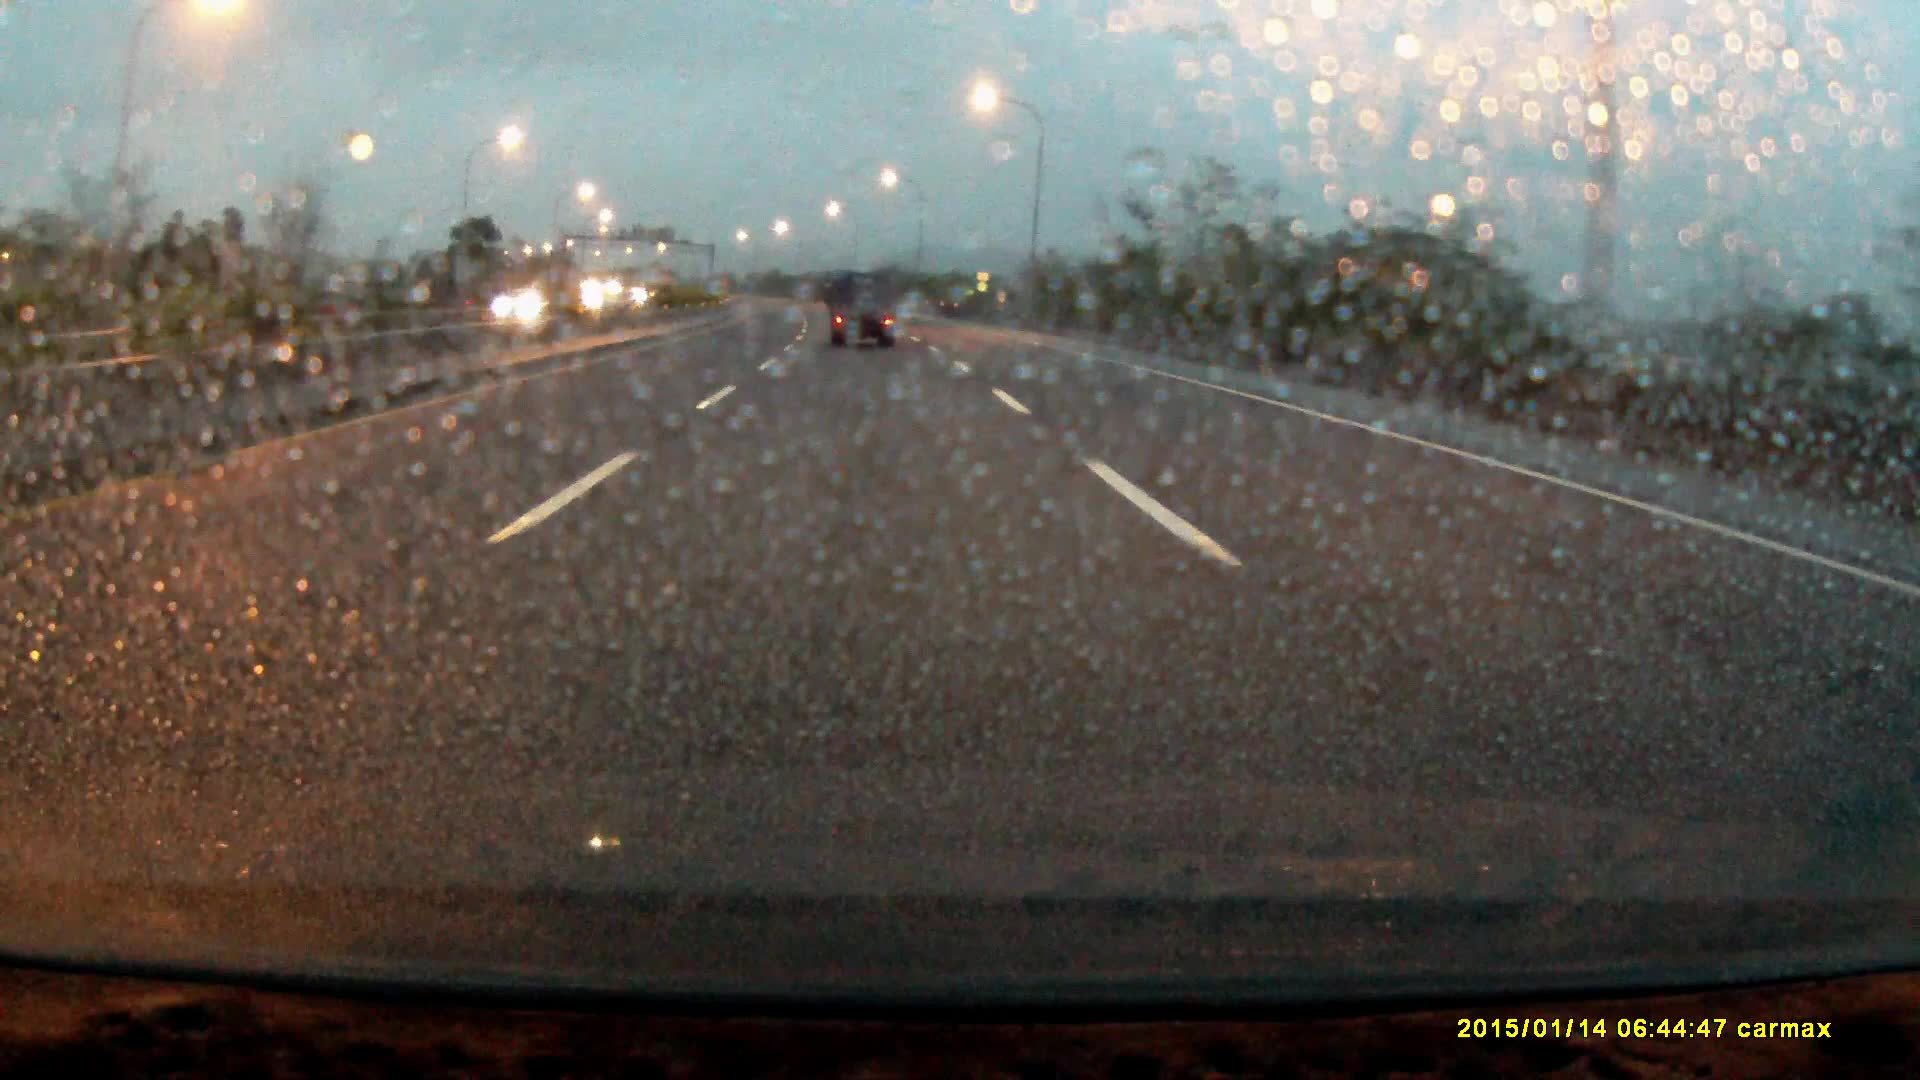vehicle: (829, 276, 897, 351), (493, 287, 564, 322)
